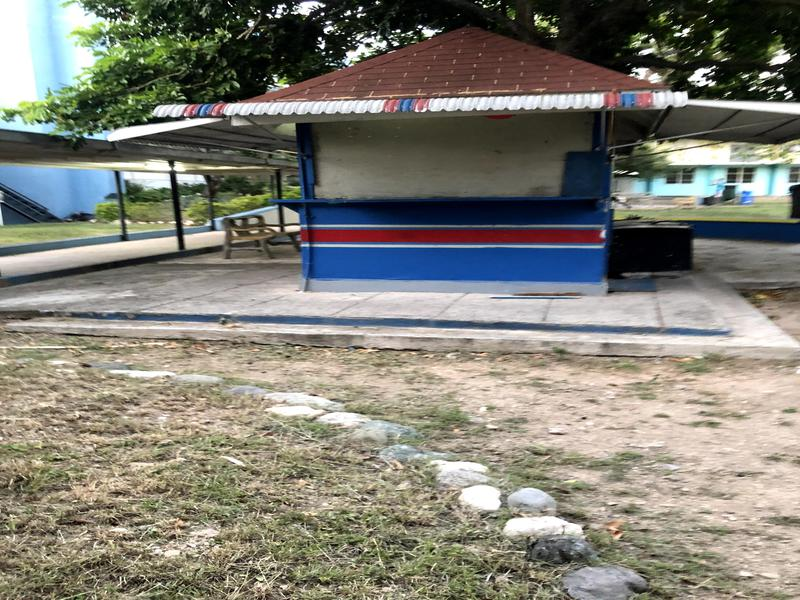18.0050609_-76.7496662_auntyjackie: (242, 25, 683, 297)
